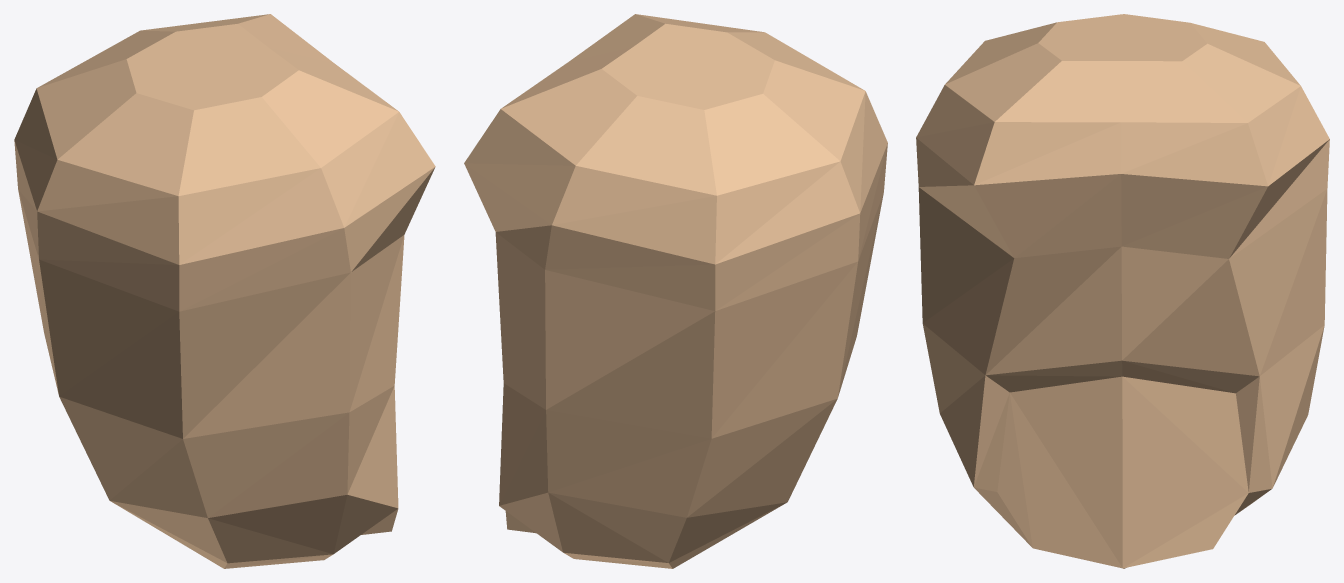
File: LFing32_mesh.dae
3 renders of one model, left to right at view 1: azimuth 30°, elevation 25°; view 2: azimuth 150°, elevation 25°; view 3: azimuth 270°, elevation 25°, orthographic. The views are drawn at different scales.
Parts seen in each view (by area): view 1: LFing32; view 2: LFing32; view 3: LFing32.
Boxes of the visible parts, x1,y1,x2,y2 form: LFing32: [14, 14, 435, 568]; LFing32: [464, 14, 887, 568]; LFing32: [916, 14, 1329, 568].
Size of the model in its own units: 0.0137 by 0.0206 by 0.0157.
